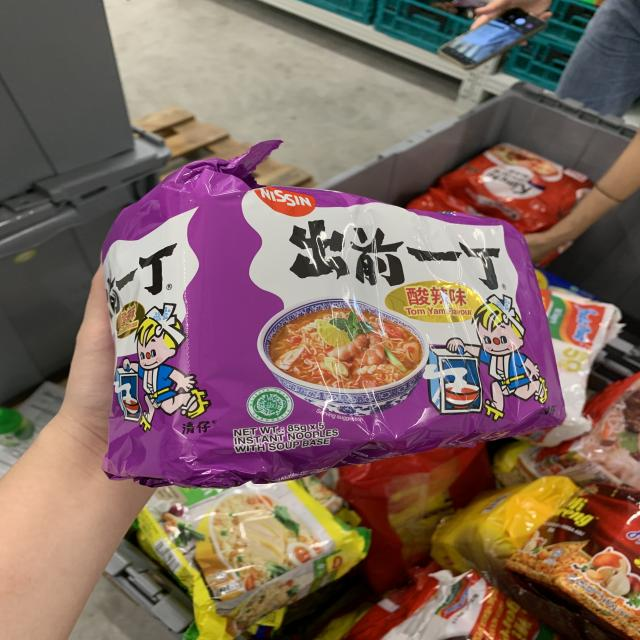object_name: (130, 195, 541, 450)
